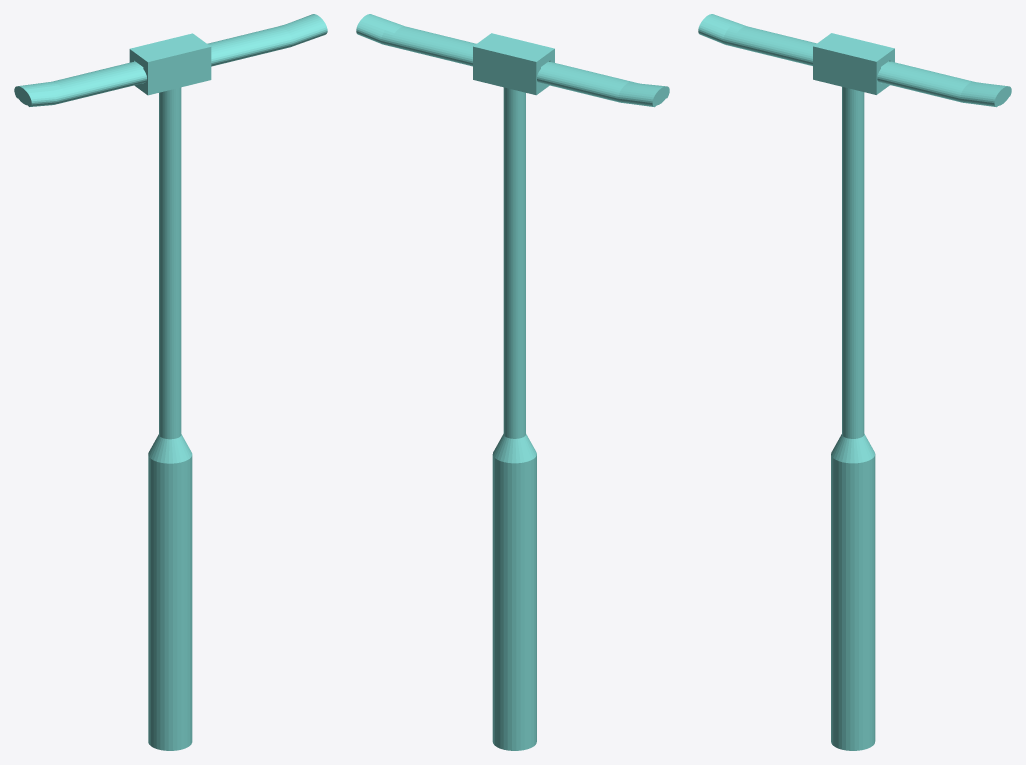
File: poste 3.fbx
3 renders of one model, left to right at view 1: azimuth 30°, elevation 25°; view 2: azimuth 150°, elevation 25°; view 3: azimuth 330°, elevation 25°, orthographic.
Parts seen in each view (by area): view 1: Cubo; view 2: Cubo; view 3: Cubo.
Part boxes in pixels (x1,y1,x2,y2): Cubo: (14, 14, 327, 750); Cubo: (356, 14, 669, 750); Cubo: (698, 14, 1011, 750).
Bounding box in the file's own units: 425 × 953 × 54.99.
